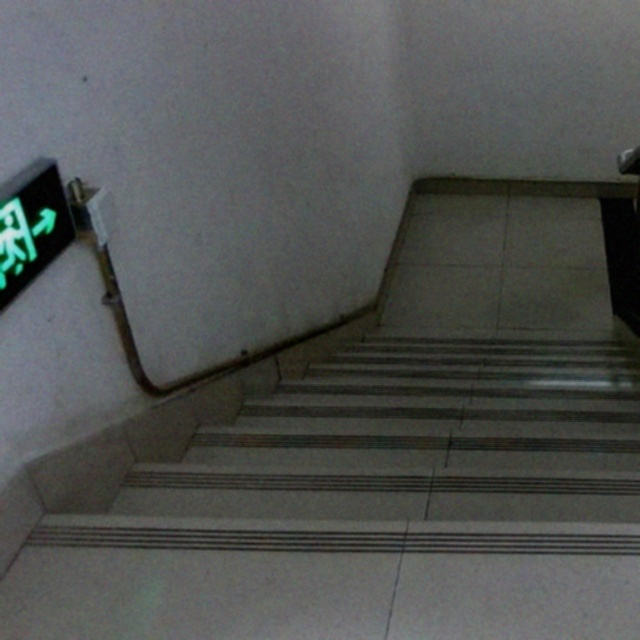stair: (105, 340, 638, 590)
